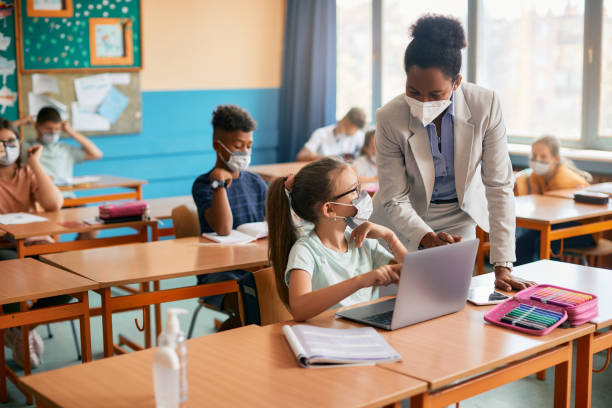with mask: (290, 146, 373, 234), (386, 41, 462, 134), (210, 109, 259, 175), (524, 132, 563, 180), (32, 104, 71, 152), (335, 102, 366, 147), (1, 123, 30, 168)
